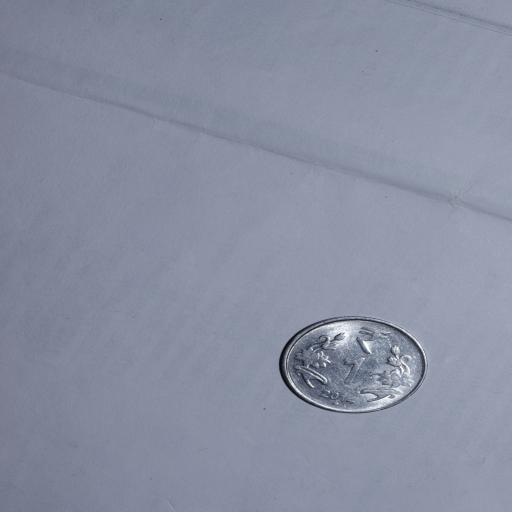rupee1: (279, 316, 426, 413)
